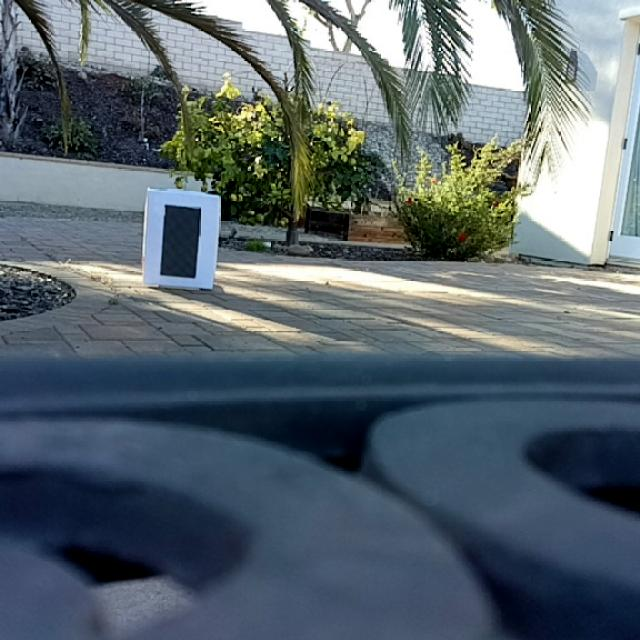led: (162, 203, 200, 278)
